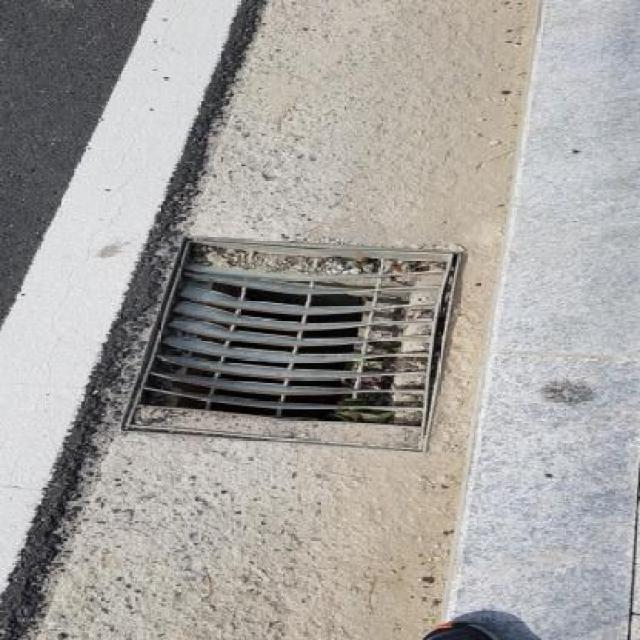Drain Hole: (179, 224, 477, 453)
